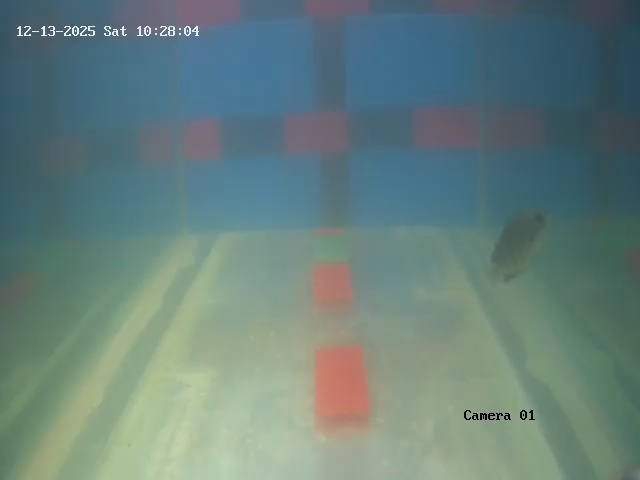fish: (490, 203, 550, 283)
